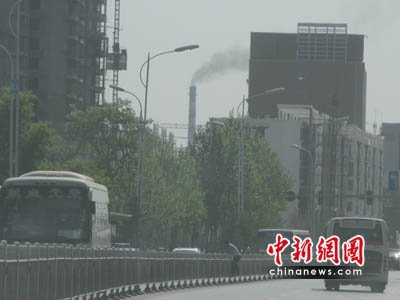dust: (181, 51, 246, 90)
